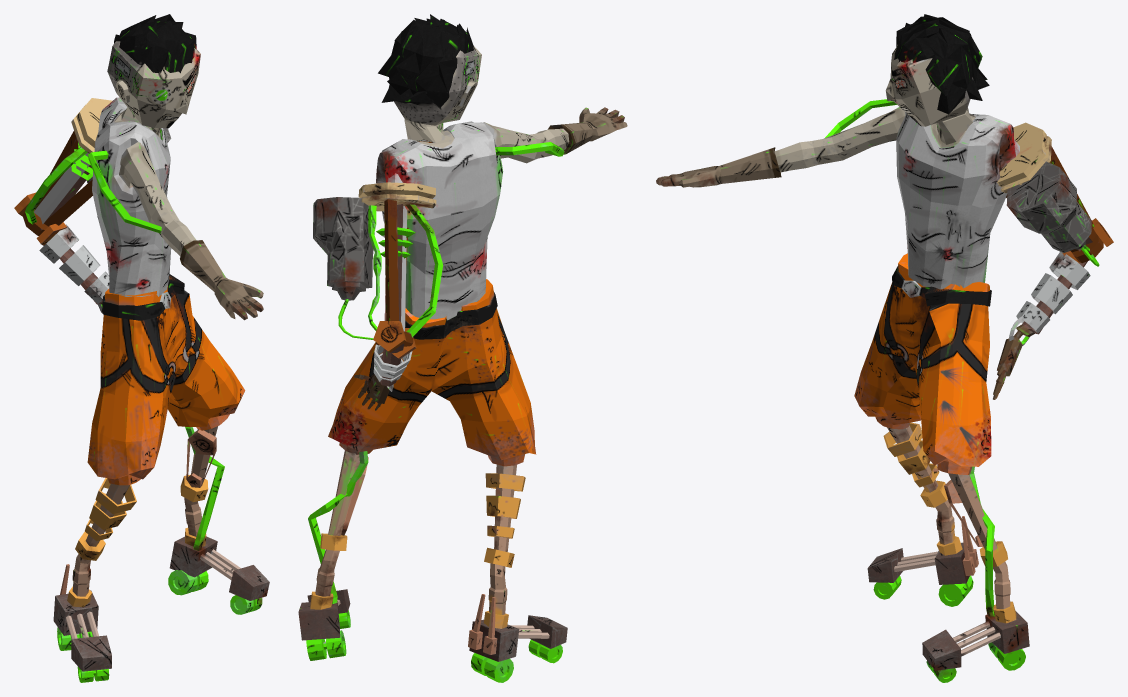
The model's file is CyborgFINALAnimation_000011.obj.
3 views of the same model, side by side, from view 1: azimuth 30°, elevation 25°; view 2: azimuth 150°, elevation 25°; view 3: azimuth 270°, elevation 25° (orthographic). The views are drawn at different scales.
Parts seen in each view (by area): view 1: CyborgMesh_Cube.002; view 2: CyborgMesh_Cube.002; view 3: CyborgMesh_Cube.002.
Part boxes in pixels (<box>): CyborgMesh_Cube.002: <box>14,14,269,682</box>; CyborgMesh_Cube.002: <box>298,14,627,682</box>; CyborgMesh_Cube.002: <box>656,14,1113,682</box>.
Bounding box in the file's own units: 3.46 × 9.53 × 6.41.
